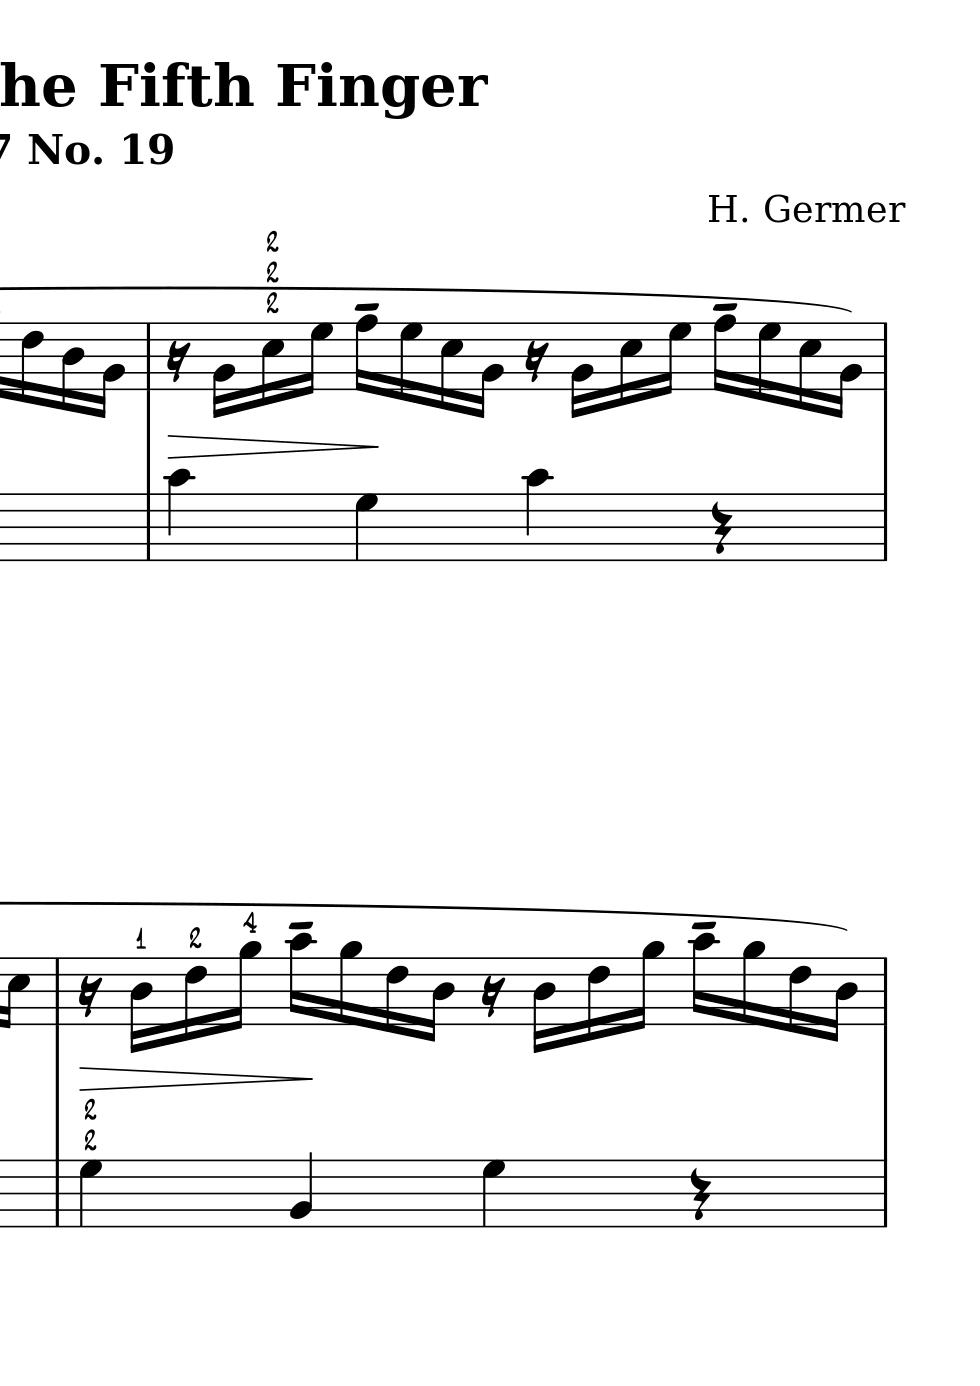16_10: (689, 929, 718, 1027), (286, 932, 315, 1027)
16_2: (832, 321, 862, 420), (473, 320, 503, 420), (94, 321, 124, 419), (211, 321, 235, 419), (568, 321, 593, 419)
16_4: (424, 955, 455, 1043), (828, 955, 858, 1043), (530, 955, 555, 1054), (127, 957, 152, 1053), (59, 321, 84, 414)
16_5: (437, 320, 463, 413), (797, 320, 822, 414), (259, 320, 284, 409), (1, 957, 31, 1030), (617, 320, 642, 408)
16_6: (18, 320, 43, 406), (585, 954, 610, 1043), (182, 955, 207, 1043), (787, 955, 812, 1038), (384, 954, 408, 1037)
16_7: (299, 319, 332, 397), (658, 320, 690, 398), (397, 319, 421, 406), (755, 319, 780, 406)
16_8: (711, 314, 735, 394), (353, 313, 377, 396)
16_9: (227, 938, 262, 1032), (630, 938, 663, 1033), (337, 938, 361, 1029), (740, 938, 764, 1028)
2: (187, 923, 204, 952), (265, 226, 281, 255), (82, 1095, 98, 1122), (265, 290, 282, 314), (265, 258, 281, 282), (134, 925, 148, 950), (81, 1129, 98, 1151)
4: (240, 910, 260, 935)
4_10: (163, 468, 193, 564), (522, 467, 550, 563)
4_2: (288, 1150, 315, 1230)
4_7: (77, 1159, 103, 1230), (480, 1158, 506, 1228), (353, 491, 378, 561)
Diminuendo_hairpin: (78, 1065, 314, 1089), (168, 433, 381, 459)
Rests16: (523, 339, 549, 384), (76, 973, 102, 1019), (480, 973, 505, 1019), (165, 339, 190, 384)
Rests4: (708, 501, 733, 557), (687, 1166, 712, 1223)
Single_barline: (140, 323, 156, 390), (140, 493, 156, 560), (49, 1159, 65, 1226), (876, 1160, 892, 1226), (878, 322, 893, 391), (49, 958, 64, 1025), (877, 494, 892, 560), (878, 957, 892, 1027)
